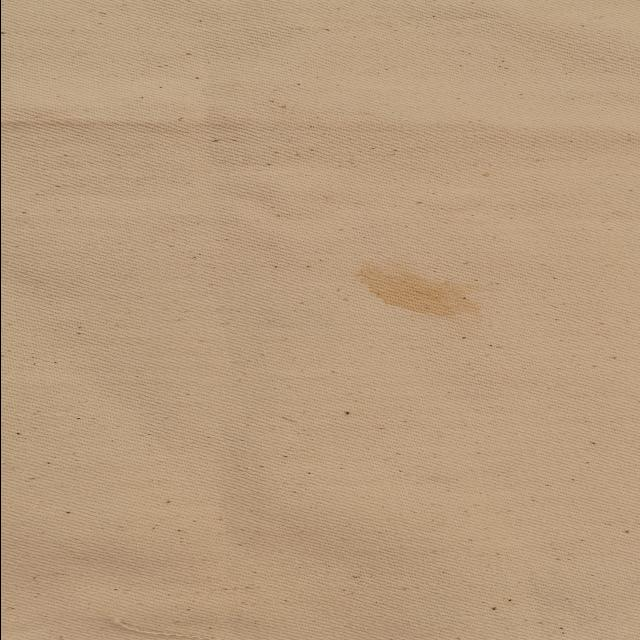taaaches: (340, 264, 494, 324)
